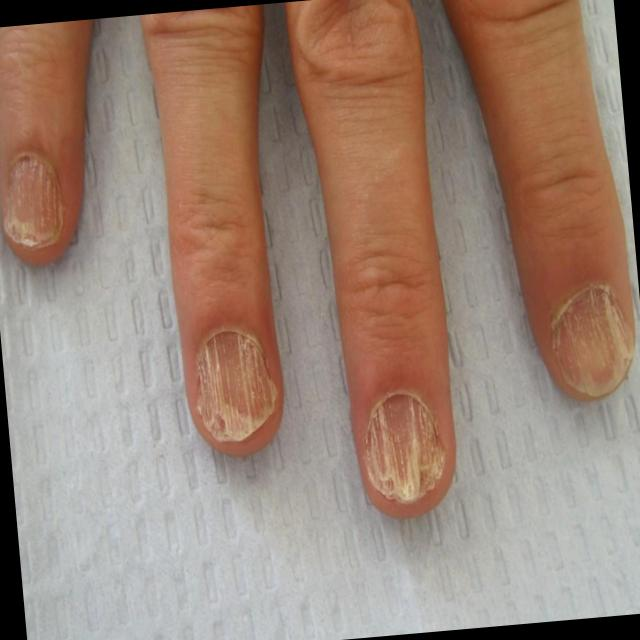Nail: (365, 392, 446, 504), (555, 284, 634, 396), (197, 330, 277, 440), (5, 153, 63, 247)
